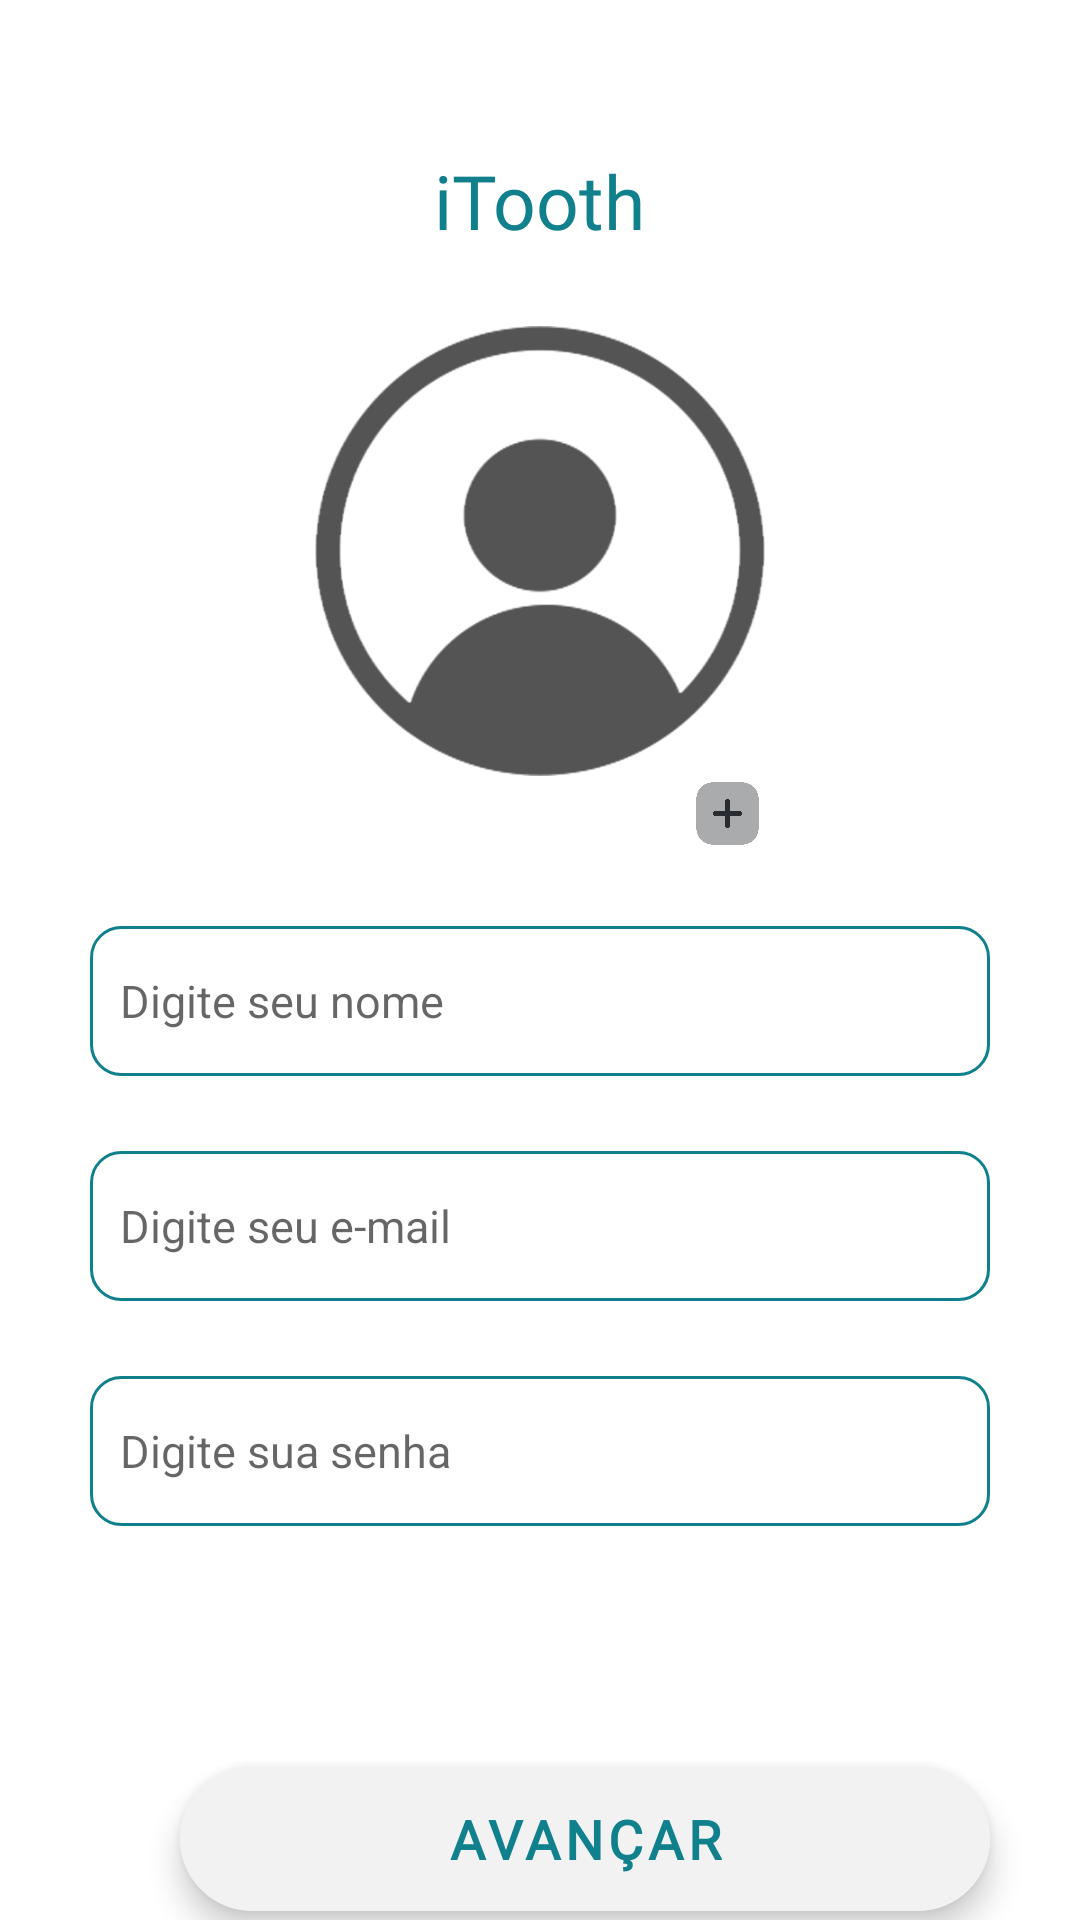

Locate icon controls on the screen. Image size 1080×1920, boxes as rect(x1, y1, x2, y2).
add: rect(696, 782, 759, 845)
